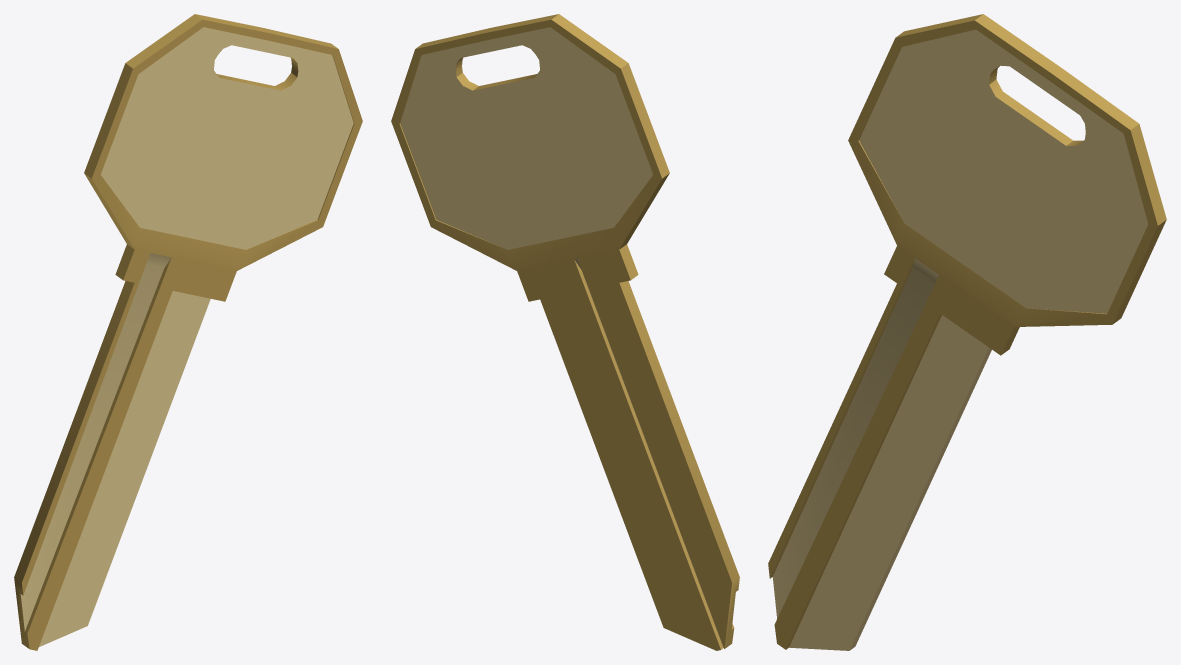
File: Key_7.fbx
3 renders of one model, left to right at view 1: azimuth 30°, elevation 25°; view 2: azimuth 150°, elevation 25°; view 3: azimuth 330°, elevation 25°, orthographic. The views are drawn at different scales.
Parts seen in each view (by area): view 1: Key7.001; view 2: Key7.001; view 3: Key7.001.
Part boxes in pixels (x1,y1,x2,y2): Key7.001: (14, 14, 362, 650); Key7.001: (391, 14, 739, 650); Key7.001: (768, 14, 1166, 650).
Size of the model in its own units: 0.5931 by 0.9821 by 0.0233.
